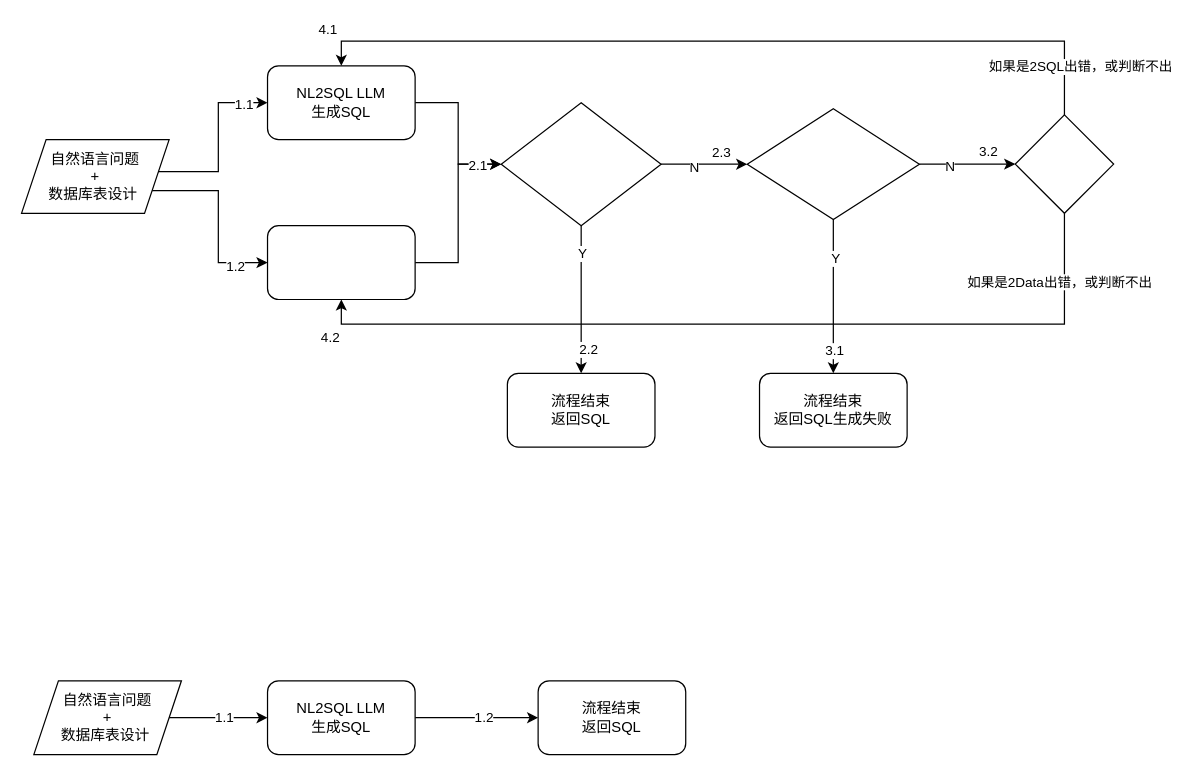
The diagram is 1194 pixels wide and 776 high, and some of its shapes have lost their labels. Here are the shapes that lost their labels. From the top down, the box of each, then its label:
(500, 101, 661, 226): 检查： SQL结果是否与测试数据相符
(746, 108, 919, 220): 不一致次数是否到达阈值
(1014, 114, 1114, 213): 是谁的错误
(266, 224, 415, 300): NL2Data LLM 生成测试数据 插入测试数据库
